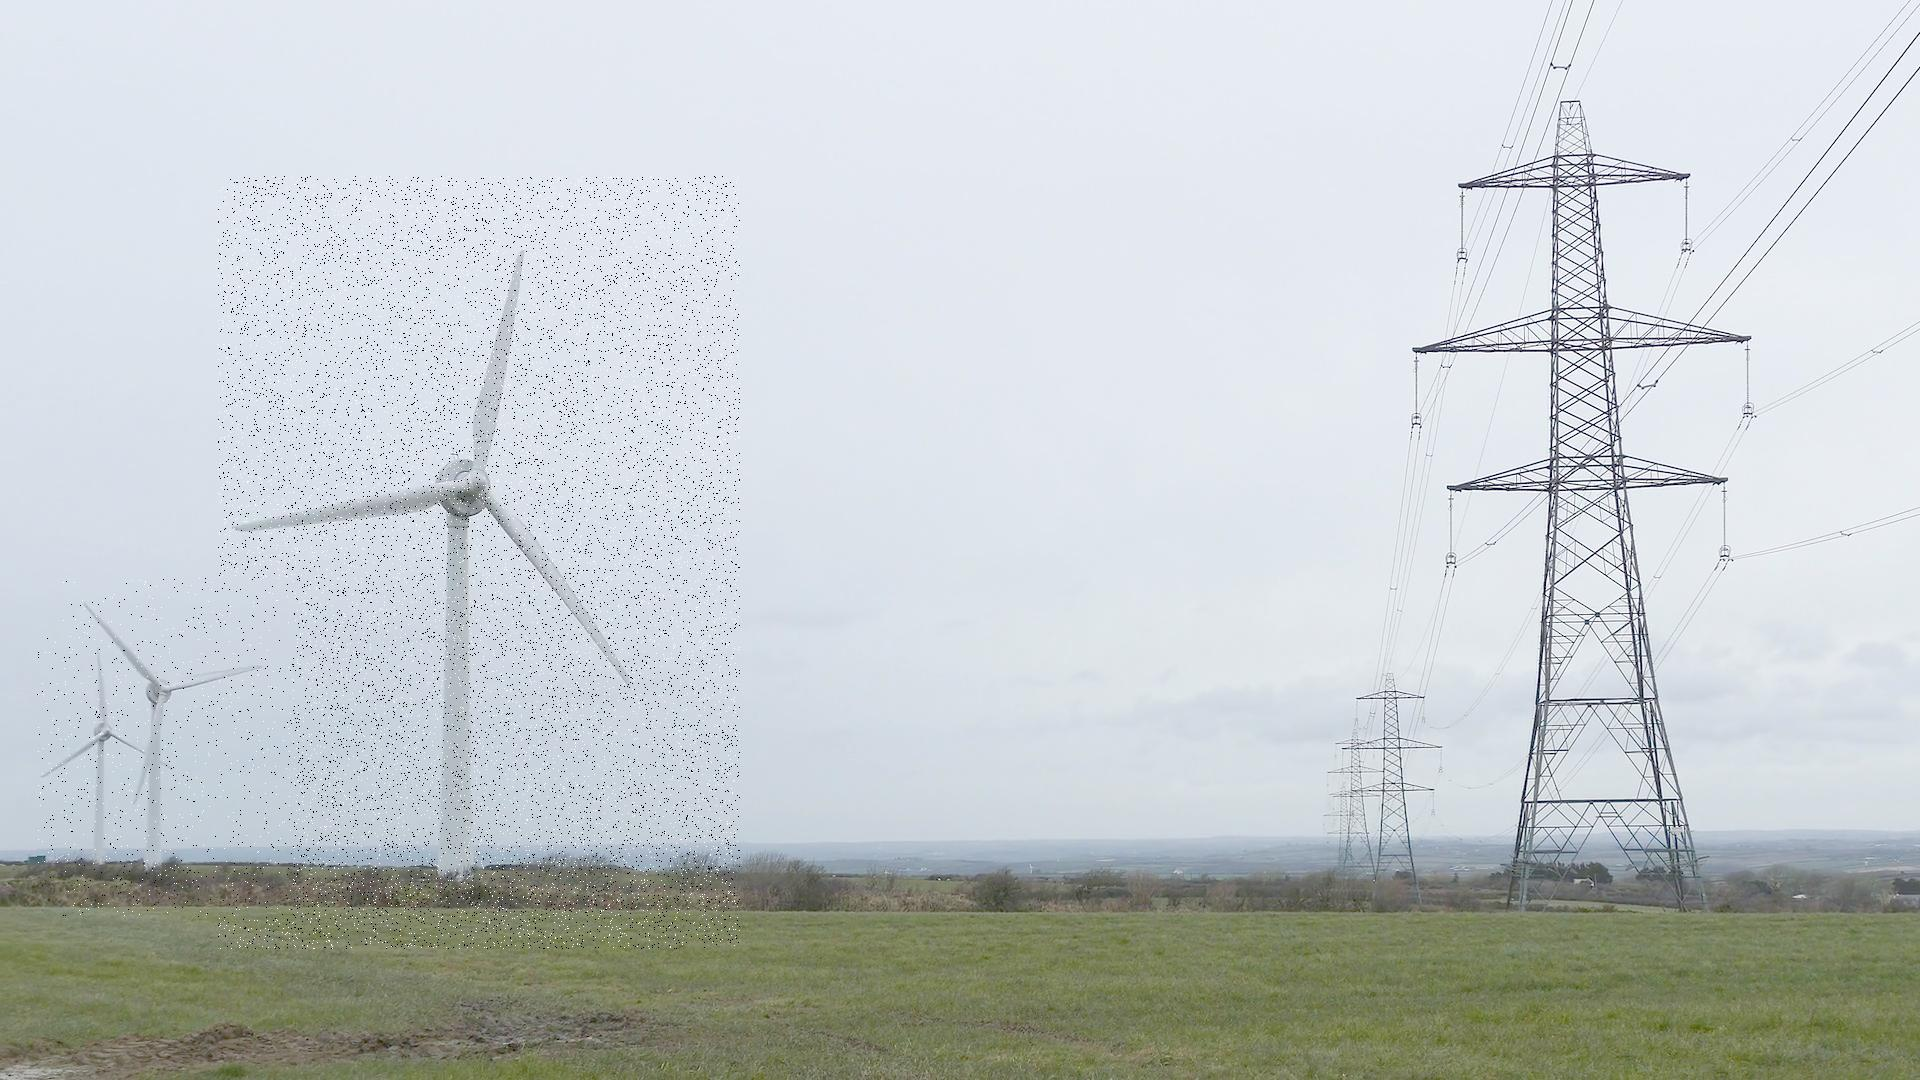cable tower: (1410, 98, 1750, 913), (1346, 671, 1443, 909), (1327, 727, 1385, 891), (1324, 782, 1364, 874)
turbine: (218, 175, 740, 949), (63, 579, 293, 918), (37, 633, 193, 887)
